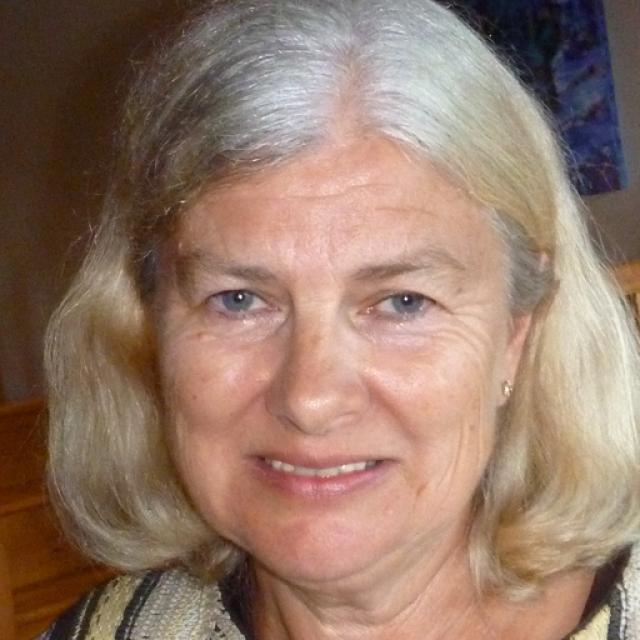disgust: (158, 132, 506, 586)
